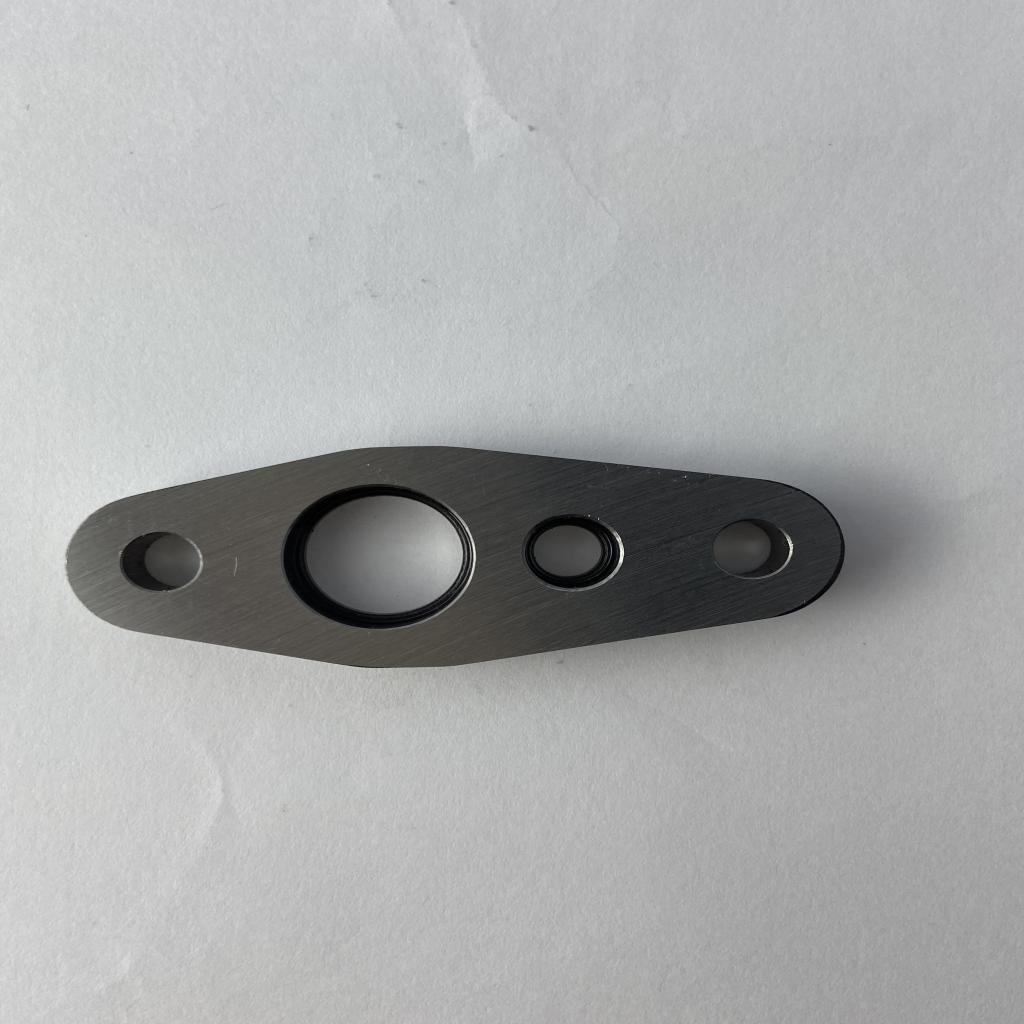chap: (231, 557, 240, 578), (586, 513, 603, 523)
